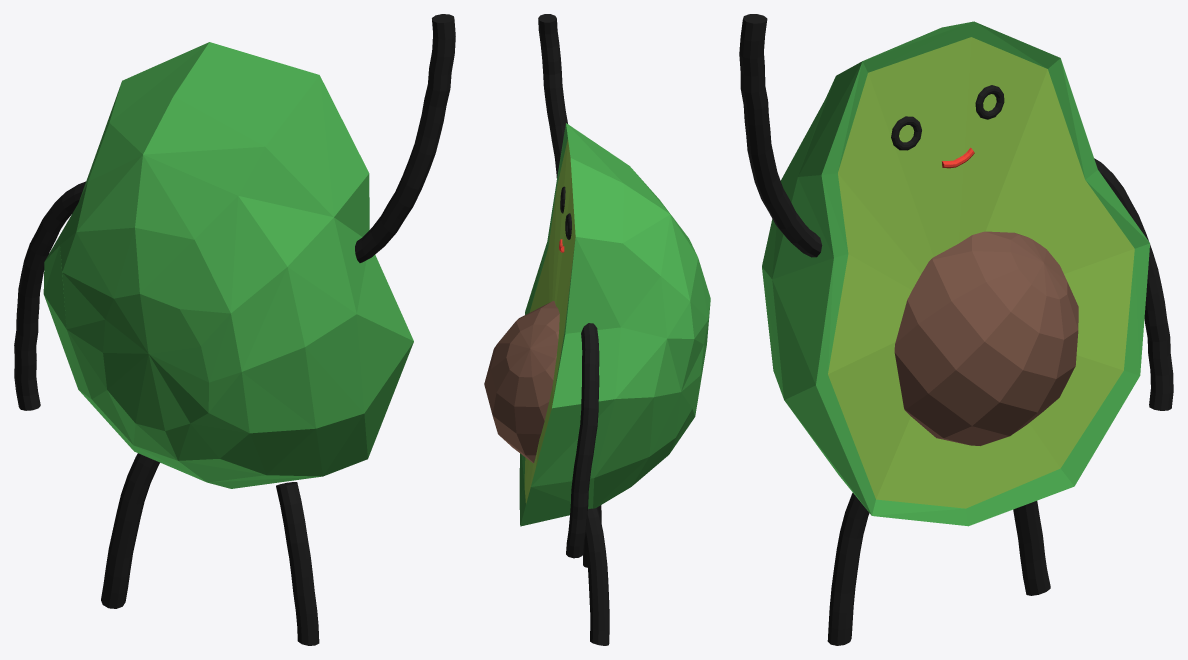
The model's file is AVOCADO.glb.
3 views of the same model, side by side, from view 1: azimuth 30°, elevation 25°; view 2: azimuth 150°, elevation 25°; view 3: azimuth 270°, elevation 25° (orthographic). The views are drawn at different scales.
Visible parts, largest first — view 1: group2144410525, group57346918, group1575696903, group246295407, group989341432; view 2: group2144410525, group553117712, group1575696903, group246295407, group57346918; view 3: group2144410525, group553117712, group57346918, group1575696903, group989341432, group246295407, group1721849195, group1099409518.
Boxes of the visible parts, x1=… form: group2144410525: x1=43, y1=42, x2=413, y2=488; group57346918: x1=355, y1=14, x2=455, y2=262; group1575696903: x1=14, y1=181, x2=85, y2=410; group246295407: x1=101, y1=453, x2=159, y2=608; group989341432: x1=276, y1=482, x2=319, y2=645; group2144410525: x1=519, y1=123, x2=710, y2=526; group553117712: x1=484, y1=301, x2=559, y2=463; group1575696903: x1=566, y1=323, x2=599, y2=558; group246295407: x1=584, y1=507, x2=609, y2=645; group57346918: x1=538, y1=14, x2=567, y2=177; group2144410525: x1=762, y1=21, x2=1149, y2=526; group553117712: x1=894, y1=231, x2=1078, y2=445; group57346918: x1=739, y1=14, x2=822, y2=257; group1575696903: x1=1094, y1=158, x2=1173, y2=410; group989341432: x1=827, y1=493, x2=869, y2=645; group246295407: x1=1013, y1=501, x2=1050, y2=595; group1721849195: x1=891, y1=116, x2=921, y2=150; group1099409518: x1=975, y1=85, x2=1004, y2=119.
Bounding box in the file's own units: 0.2012 × 0.4181 × 0.2427.
